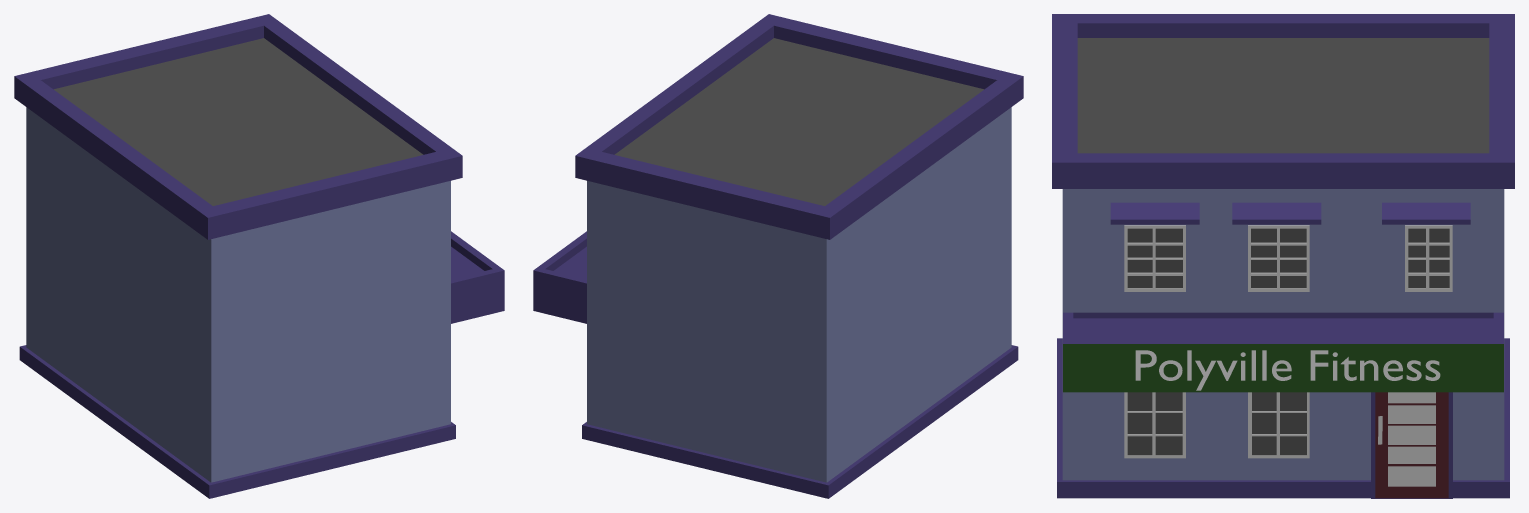
File: Building_Gym.fbx
3 views of the same model, side by side, from view 1: azimuth 30°, elevation 25°; view 2: azimuth 150°, elevation 25°; view 3: azimuth 270°, elevation 25° (orthographic). The views are drawn at different scales.
Visible parts, largest first — view 1: Cube; view 2: Cube; view 3: Cube, Plane, Text.
Part boxes in pixels (<box>): Cube: <box>14,14,504,498</box>; Cube: <box>533,14,1023,498</box>; Cube: <box>1052,14,1514,498</box>; Plane: <box>1110,202,1470,224</box>; Text: <box>1135,350,1440,390</box>.
Bounding box in the file's own units: 842 × 750 × 930.
